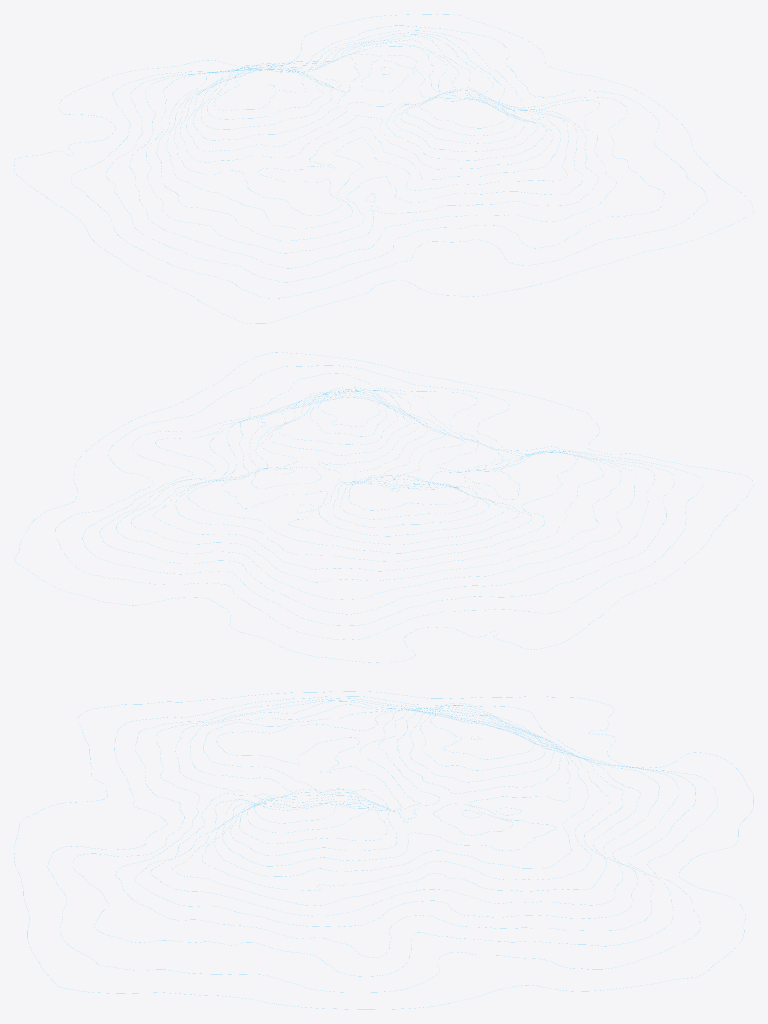
The picture shows the model from 3 angles, top to bottom: view 1: azimuth 30°, elevation 25°; view 2: azimuth 150°, elevation 25°; view 3: azimuth 270°, elevation 25°; orthographic projection. The views are drawn at different scales.
Parts seen in each view (by area): view 1: 等高线; view 2: 等高线; view 3: 等高线.
Part boxes in pixels (x1,y1,x2,y2): 等高线: (14, 14, 753, 323); 等高线: (14, 352, 753, 662); 等高线: (14, 691, 753, 1009).
Bounding box in the file's own units: 10.2 × 1.17 × 10.03.
